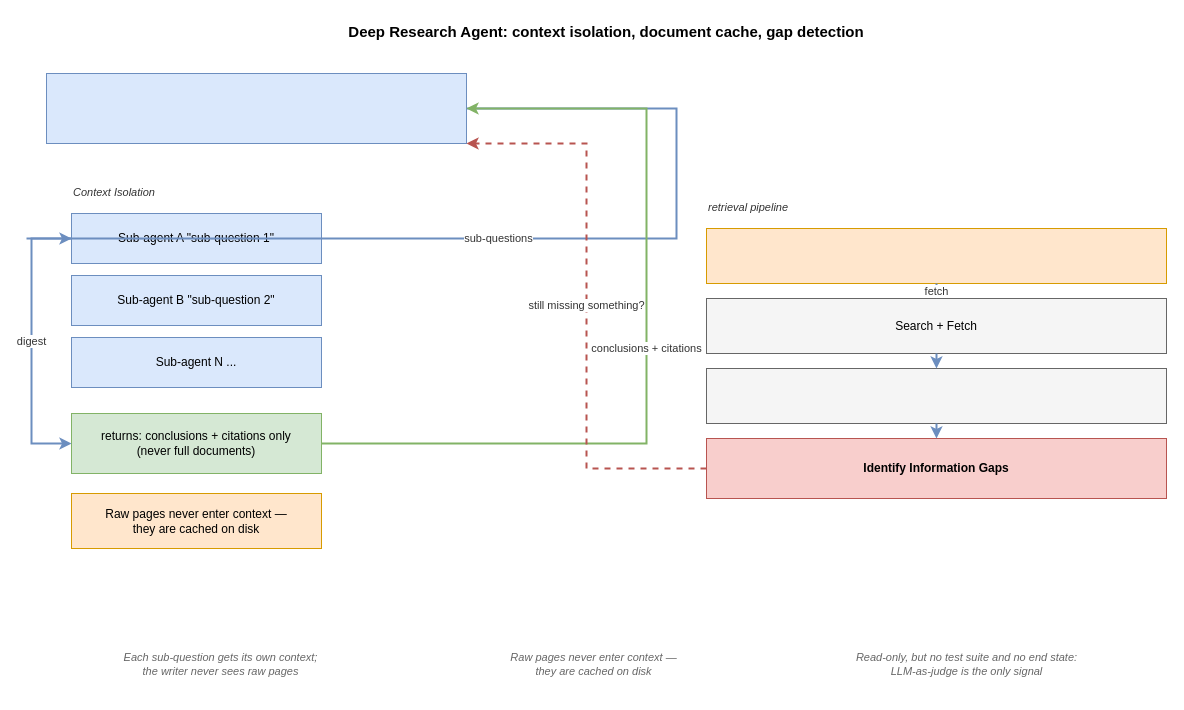
The diagram is 1184 pixels wide and 710 high, and some of its shapes have lost their labels. The box of each missing label's shape, as (x1, y1, x2, y2) in pixels:
Agent decompose · synthesise · cite: (46, 72, 466, 144)
Cross-check sources: (706, 368, 1166, 424)
Document Cache on disk: (706, 228, 1166, 284)
